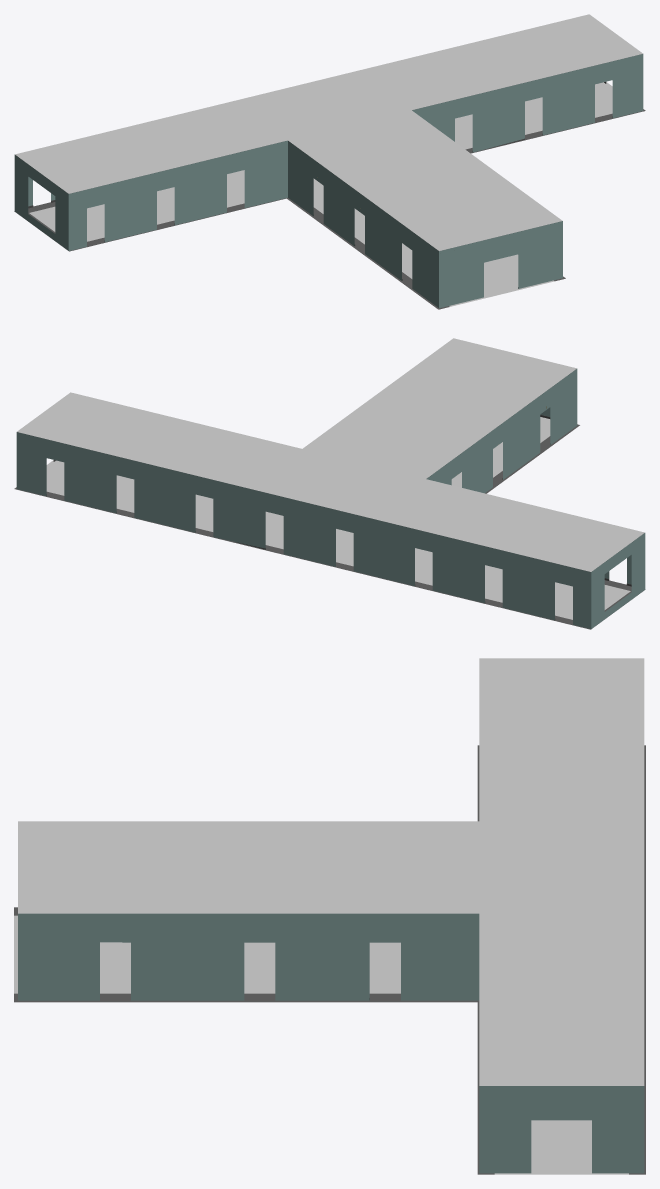
File: HallwayShell.fbx
The picture shows the model from 3 angles, top to bottom: view 1: azimuth 30°, elevation 25°; view 2: azimuth 150°, elevation 25°; view 3: azimuth 270°, elevation 25°; orthographic projection. The views are drawn at different scales.
Visible parts, largest first — view 1: Ceiling1, Wall1, Floor; view 2: Ceiling1, Wall1, Floor; view 3: Ceiling1, Wall1, Floor.
Boxes of the visible parts, bbox=[...] form: Ceiling1: bbox=[15, 14, 642, 250]; Wall1: bbox=[14, 54, 643, 308]; Floor: bbox=[14, 82, 645, 309]; Ceiling1: bbox=[17, 338, 644, 571]; Wall1: bbox=[16, 369, 645, 628]; Floor: bbox=[14, 417, 645, 629]; Ceiling1: bbox=[18, 658, 644, 1085]; Wall1: bbox=[18, 913, 644, 1173]; Floor: bbox=[14, 745, 645, 1174].
Bounding box in the file's own units: 3734 × 355 × 2322.
